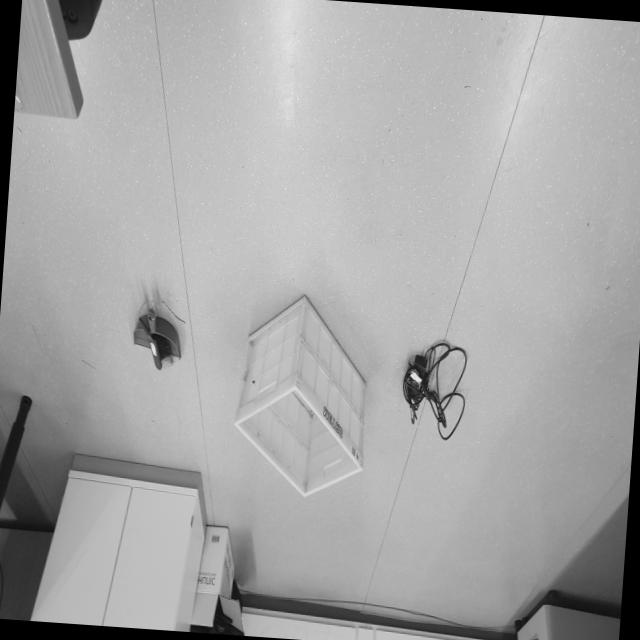box: (225, 270, 382, 509)
